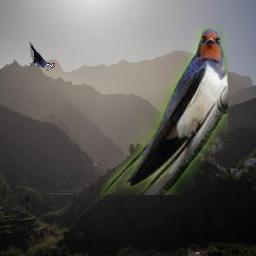Swallow: (101, 26, 228, 195)
Woodpecker: (29, 42, 55, 71)
